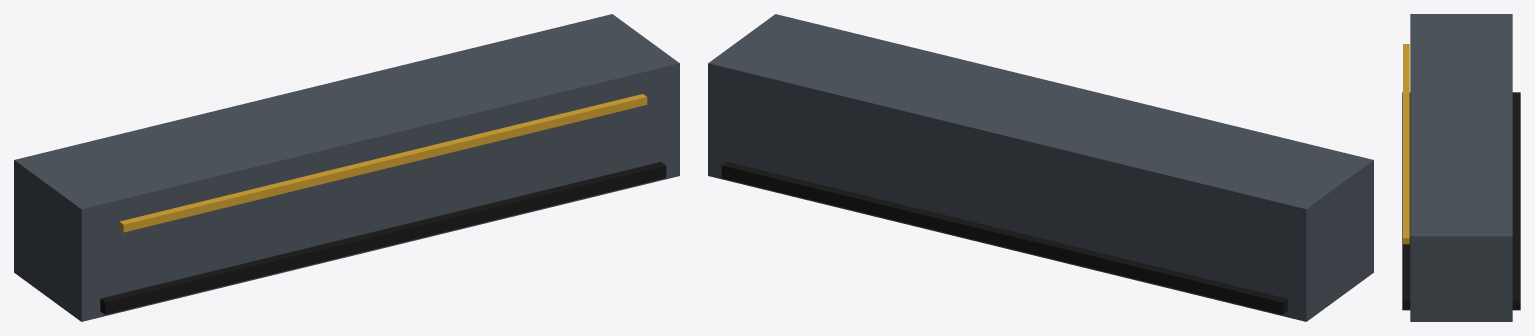
File: cover.low_barrier.glb
3 renders of one model, left to right at view 1: azimuth 30°, elevation 25°; view 2: azimuth 150°, elevation 25°; view 3: azimuth 270°, elevation 25°, orthographic. The views are drawn at different scales.
Parts seen in each view (by area): view 1: barrier_cover, black_base, hazard_face; view 2: barrier_cover, black_base; view 3: barrier_cover, black_base, hazard_face.
Boxes of the visible parts, box(x1,y1,x2,y2) form: barrier_cover: box(14, 14, 679, 321); black_base: box(100, 162, 666, 314); hazard_face: box(119, 94, 647, 232); barrier_cover: box(708, 14, 1373, 321); black_base: box(721, 162, 1287, 314); barrier_cover: box(1410, 14, 1512, 321); black_base: box(1402, 92, 1520, 310); hazard_face: box(1403, 44, 1409, 244).
Bounding box in the file's own units: 4 × 0.72 × 0.9.
